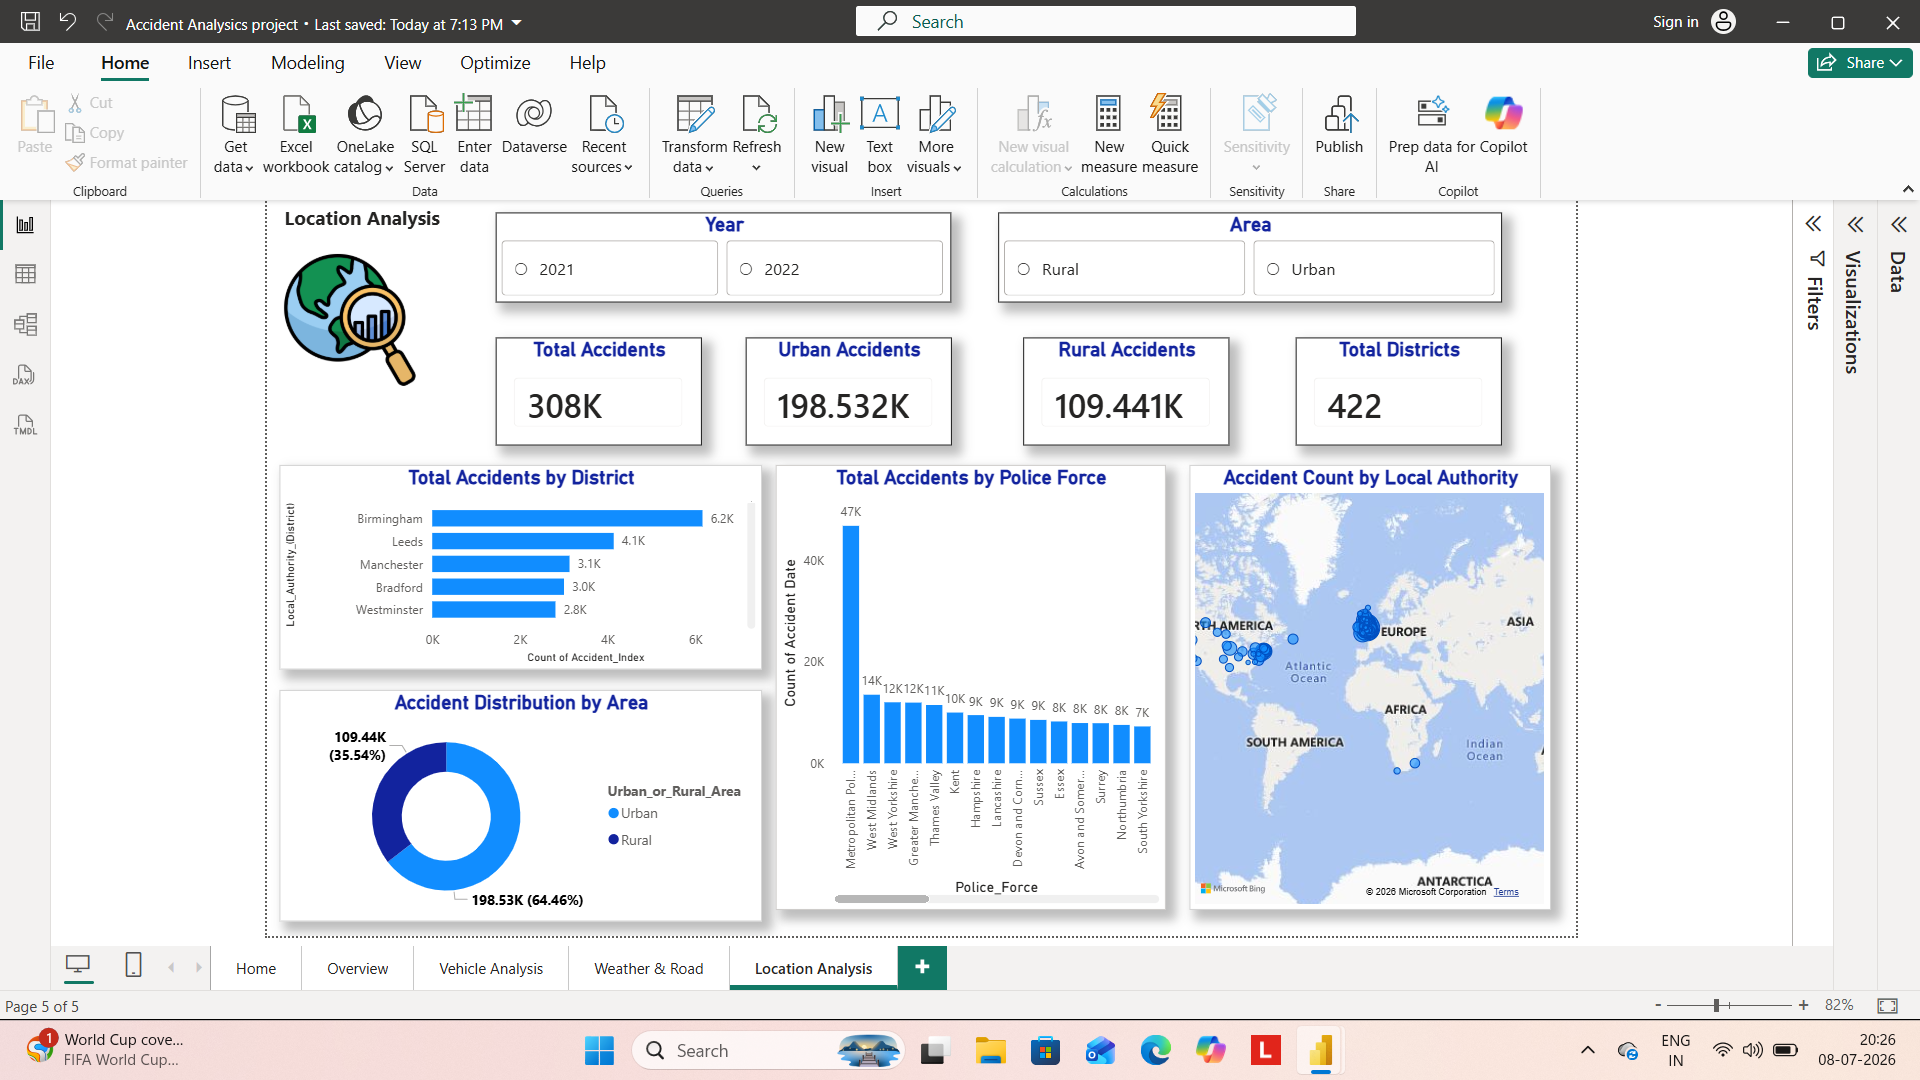

The dashboard page shown, as its layout file describes it:
{"tool":"powerbi","page":{"name":"Location Analysis","canvas":[1280,720],"ordinal":4},"visuals":[{"type":"image","box":[12.3,45.3,137.2,144.1],"z":0},{"type":"textbox","box":[12.3,0,199,45.3],"z":1000},{"type":"cardVisual","title":"Total Accidents","fields":{"Data":["Road Accident Data.Total Accidents"]},"box":[223.7,134.5,201.7,105.7],"z":2000},{"type":"cardVisual","title":"Urban Accidents","fields":{"Data":["CountNonNull(Road Accident Data.Accident_Index)"]},"box":[467.9,134.5,201.7,105.7],"z":3000},{"type":"cardVisual","title":"Rural Accidents","fields":{"Data":["CountNonNull(Road Accident Data.Accident_Index)"]},"box":[739.6,134.5,201.7,105.7],"z":4000},{"type":"cardVisual","title":"Total Districts","fields":{"Data":["Count(Road Accident Data.Local_Authority_(District))"]},"box":[1005.8,134.5,201.7,105.7],"z":5000},{"type":"advancedSlicerVisual","fields":{"Values":["Road Accident Data.Accident Date.Variation.Date Hierarchy.Year"]},"box":[223.7,12.3,446,87.8],"z":6000},{"type":"advancedSlicerVisual","title":"Area","fields":{"Values":["Road Accident Data.Urban_or_Rural_Area"]},"box":[714.9,12.3,492.6,87.8],"z":7000},{"type":"clusteredBarChart","title":"Total Accidents by District","fields":{"Category":["Road Accident Data.Local_Authority_(District)"],"Y":["CountNonNull(Road Accident Data.Accident_Index)"]},"box":[12.3,259.3,472,200.3],"z":8000},{"type":"map","title":"Accident Count by Local Authority","fields":{"Category":["Road Accident Data.Local_Authority_(District)"],"Size":["CountNonNull(Road Accident Data.Accident_Index)"]},"box":[902.5,259.2,353.4,435.3],"z":9000},{"type":"donutChart","title":"Accident Distribution by Area","fields":{"Category":["Road Accident Data.Urban_or_Rural_Area"],"Y":["CountNonNull(Road Accident Data.Accident_Index)"]},"box":[12.3,478.9,472,226.4],"z":10000},{"type":"clusteredColumnChart","title":"Total Accidents by Police Force","fields":{"Y":["CountNonNull(Road Accident Data.Accident Date)"],"Category":["Road Accident Data.Police_Force"]},"box":[498.1,259.3,381.5,435],"z":11000}]}

Visuals, with their boxes on the page's 1280x720 design canvas (x1, y1, x2, y2). These are canvas units, not pixel positions in the 1920x1080 screenshot, which may show the page scaled, cropped or inside an application window:
image: detection(12, 45, 150, 189)
textbox: detection(12, 0, 211, 45)
"Total Accidents" cardVisual: detection(224, 134, 425, 240)
"Urban Accidents" cardVisual: detection(468, 134, 670, 240)
"Rural Accidents" cardVisual: detection(740, 134, 941, 240)
"Total Districts" cardVisual: detection(1006, 134, 1208, 240)
advancedSlicerVisual - Road Accident Data.Accident Date.Variation.Date Hierarchy.Year: detection(224, 12, 670, 100)
"Area" advancedSlicerVisual: detection(715, 12, 1208, 100)
"Total Accidents by District" clusteredBarChart: detection(12, 259, 484, 460)
"Accident Count by Local Authority" map: detection(902, 259, 1256, 694)
"Accident Distribution by Area" donutChart: detection(12, 479, 484, 705)
"Total Accidents by Police Force" clusteredColumnChart: detection(498, 259, 880, 694)
